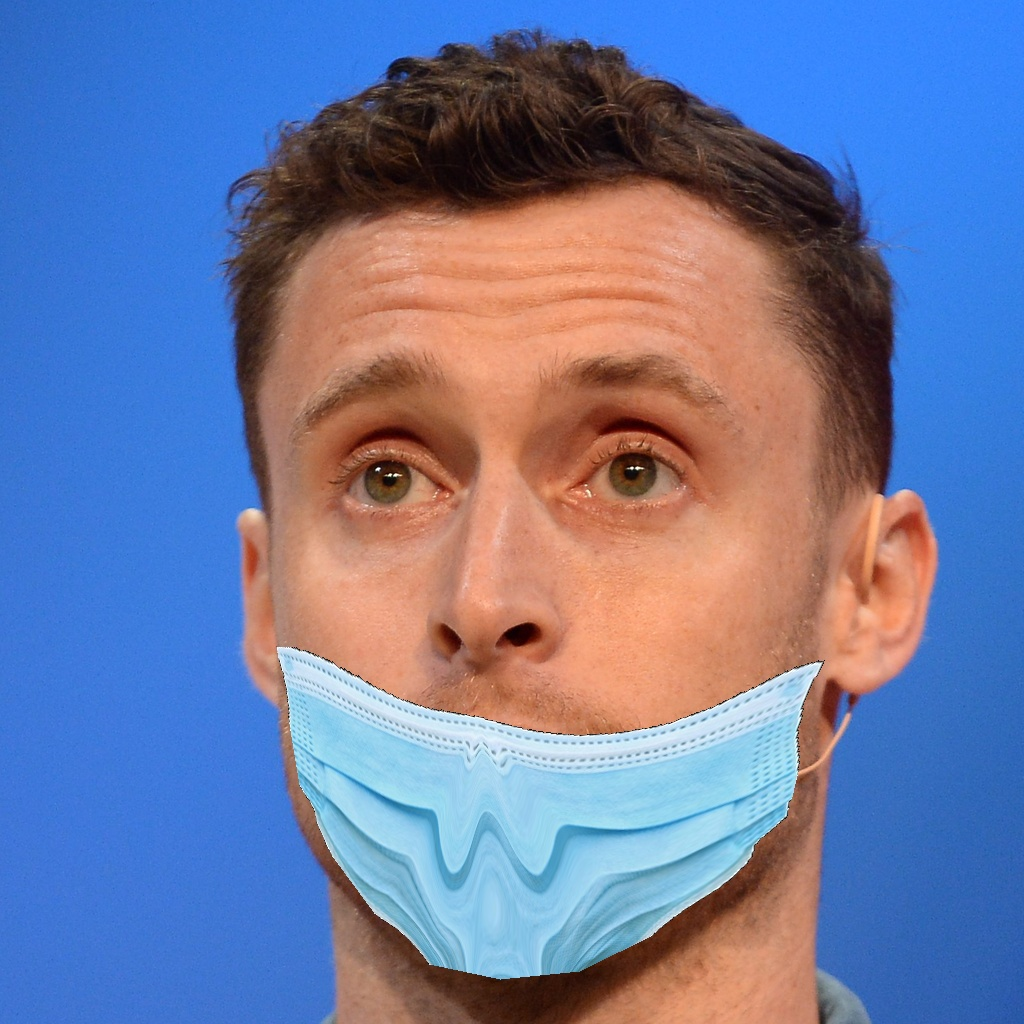mascarilla_mal_puesta: (229, 383, 864, 965)
